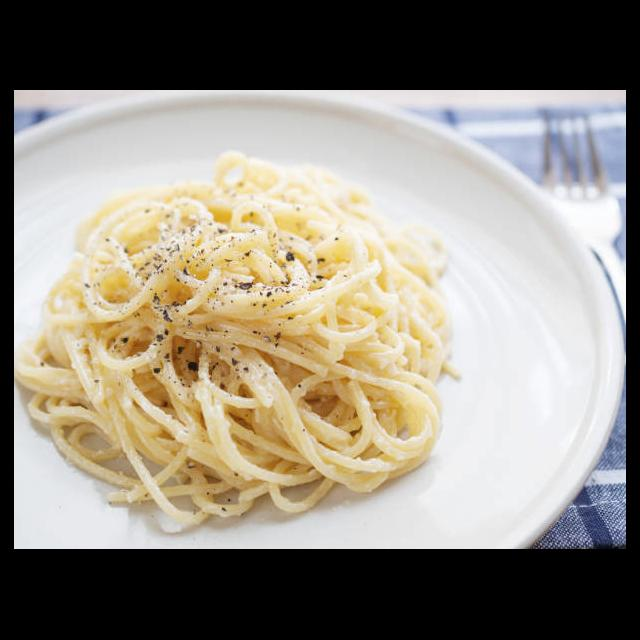noodles: (14, 152, 465, 522)
